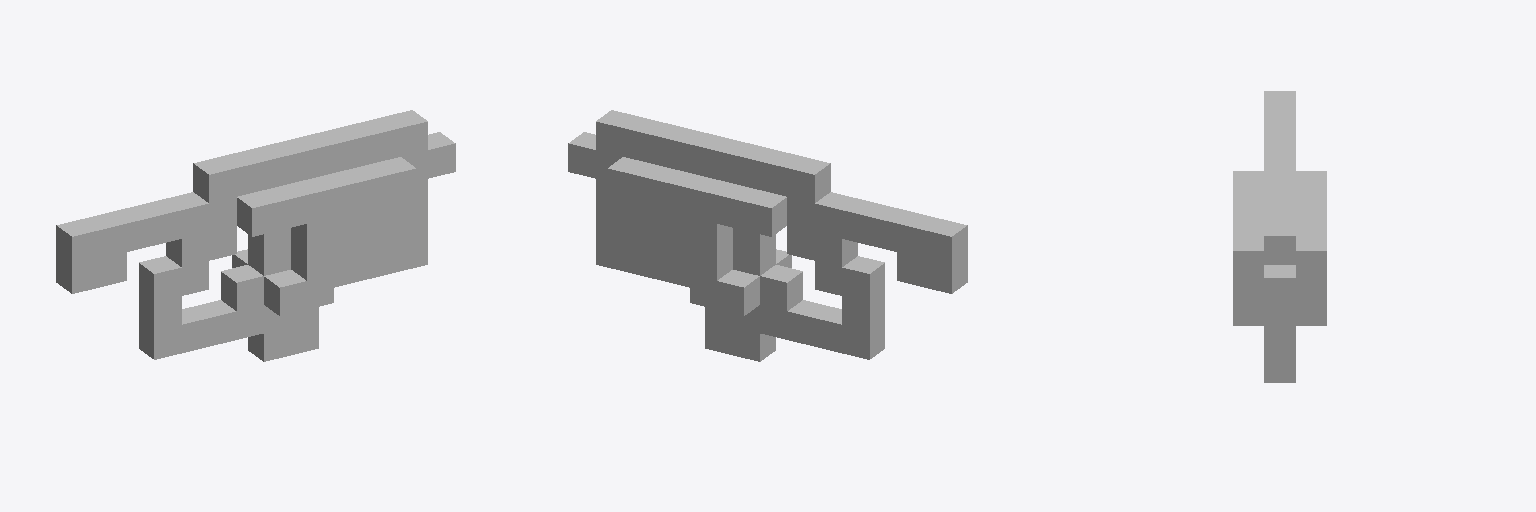
File: elf SMG.obj
The picture shows the model from 3 angles: view 1: azimuth 30°, elevation 25°; view 2: azimuth 150°, elevation 25°; view 3: azimuth 270°, elevation 25°; orthographic projection.
Size of the model in its own units: 14 by 7 by 3.